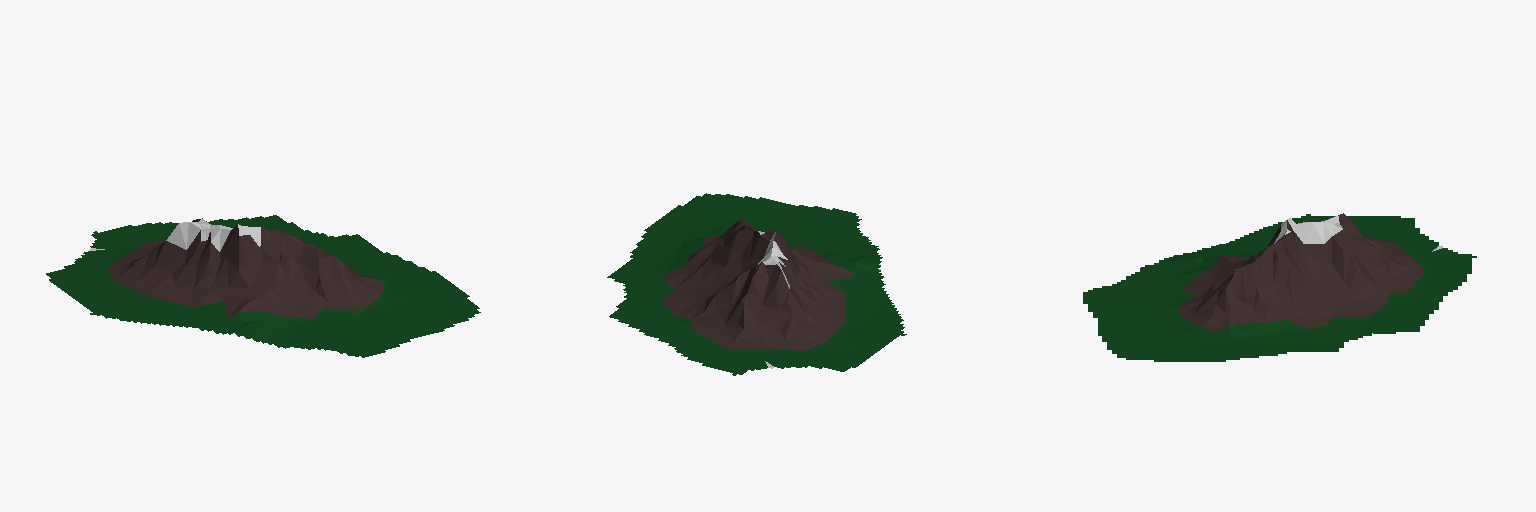
3 renders of one model, left to right at view 1: azimuth 30°, elevation 25°; view 2: azimuth 150°, elevation 25°; view 3: azimuth 270°, elevation 25°, orthographic.
Visible parts, largest first — view 1: Plane_Plane.001; view 2: Plane_Plane.001; view 3: Plane_Plane.001.
Boxes of the visible parts, x1,y1,x2,y2 form: Plane_Plane.001: [46, 215, 480, 357]; Plane_Plane.001: [607, 193, 906, 375]; Plane_Plane.001: [1083, 213, 1476, 361].
Size of the model in its own units: 29.64 by 5.98 by 33.24.